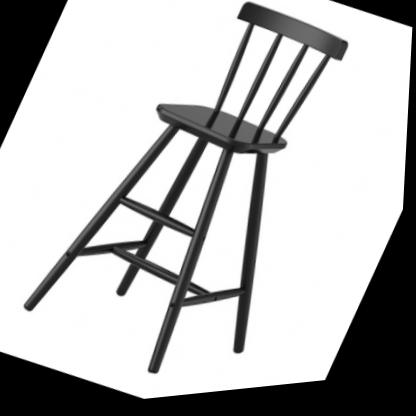Chair: (7, 0, 392, 414)
